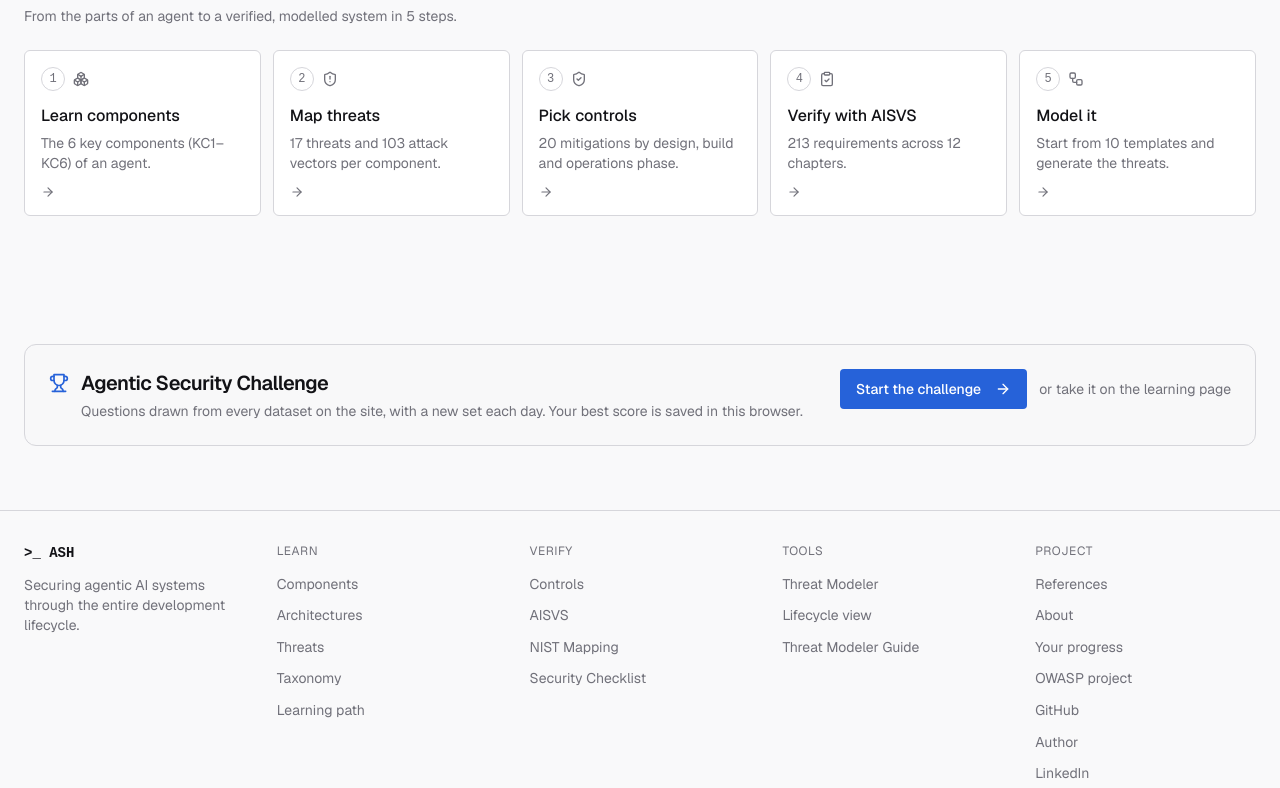
Test: Home page › loads the challenge quiz only after 'Start the challenge'
This screenshot has width=1280, height=788.
(page scrolled)
Check: the heading "Agentic Security Challenge" is shown, box top-left (81, 370), bottom-right (328, 396)
Click the button "Start the challenge": (934, 389) top-left (840, 369), bottom-right (1027, 409)
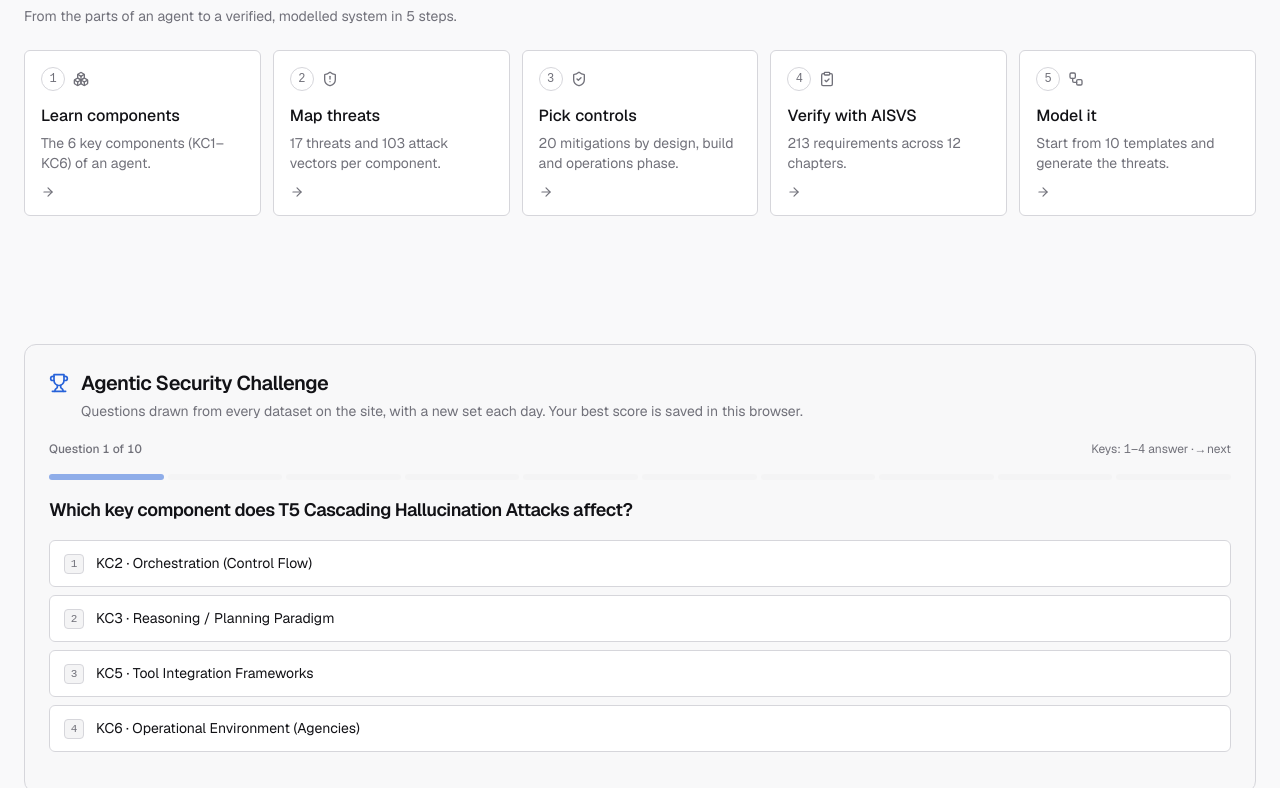
Check: the button "Start the challenge" is gone
